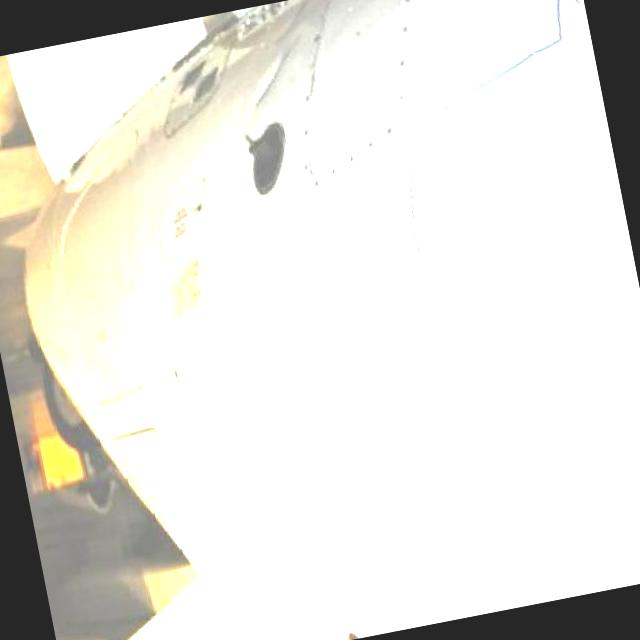dent: (418, 0, 554, 94), (244, 40, 308, 110)
